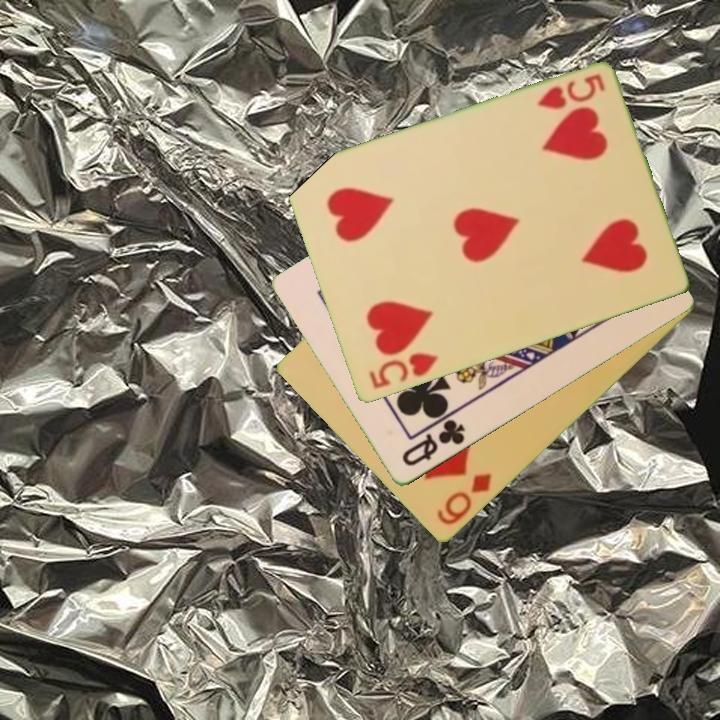5h: (365, 349, 441, 392), (533, 71, 608, 113)
6d: (433, 470, 495, 529)
Qc: (398, 416, 469, 470)
